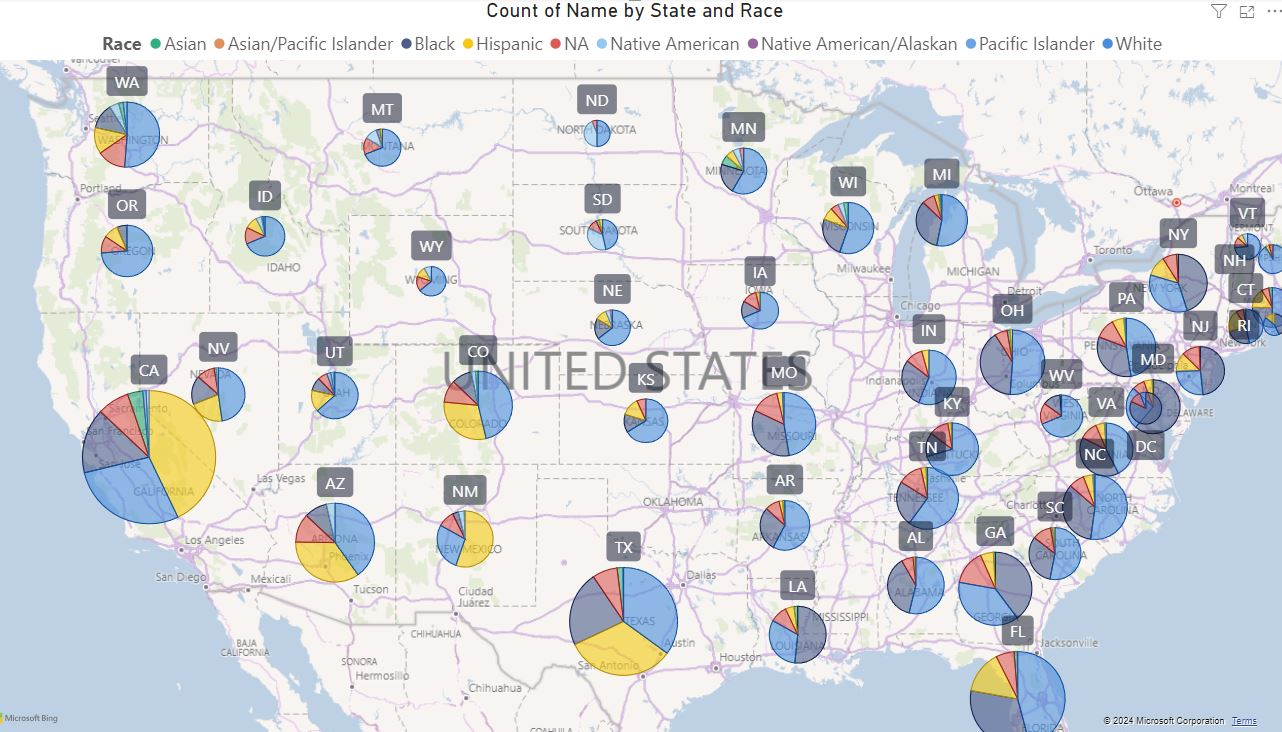

This screenshot's page, from the dashboard's own definition file:
{"tool":"powerbi","page":{"name":"Page 2","canvas":[1280,720],"ordinal":1},"visuals":[{"type":"map","fields":{"Category":["Data Corrected.State"],"Series":["Data Corrected.Race"],"Size":["CountNonNull(Data Corrected.Name)"]},"box":[9.7,0,1270.3,719.8],"z":0}]}

Visuals, with their boxes in screenshot pixels (x1, y1, x2, y2), scaled from the page's 1280x720 canvas onto the 1282x732 screenshot:
map - Data Corrected.State x Data Corrected.Race: detection(10, 0, 1281, 731)
